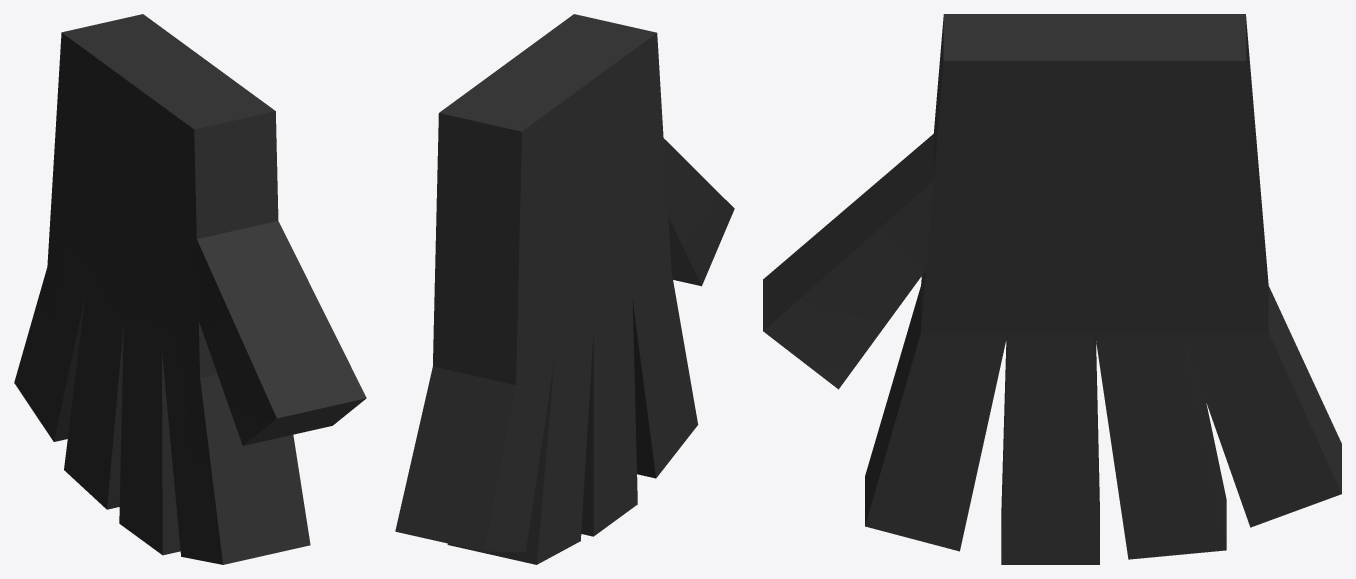
Rendered from EnemyGroundHandR.fbx.
The picture shows the model from 3 angles, left to right: view 1: azimuth 30°, elevation 25°; view 2: azimuth 150°, elevation 25°; view 3: azimuth 270°, elevation 25°; orthographic projection. The views are drawn at different scales.
Visible parts, largest first — view 1: pCube6; view 2: pCube6; view 3: pCube6.
Boxes of the visible parts, box(x1,y1,x2,y2) form: pCube6: box(14, 14, 366, 564); pCube6: box(395, 14, 734, 564); pCube6: box(763, 14, 1341, 564).
Bounding box in the file's own units: 0.00158 × 0.00676 × 0.00701.
1 material, 1 textured.
